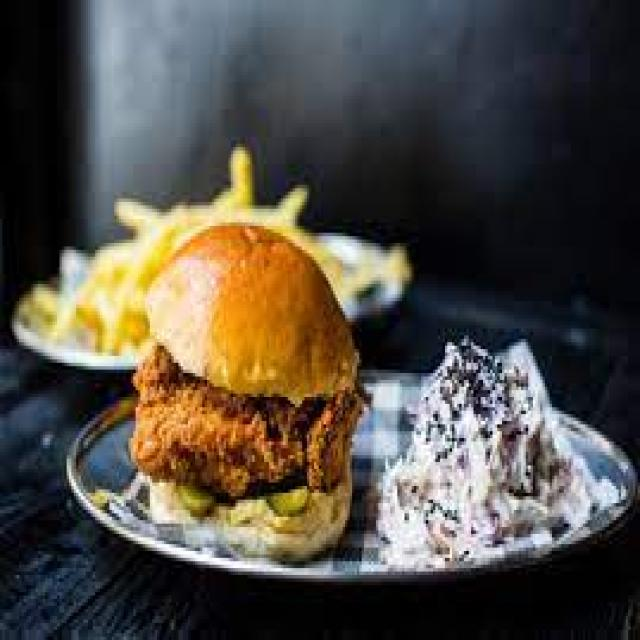햄버거: (133, 228, 359, 570)
